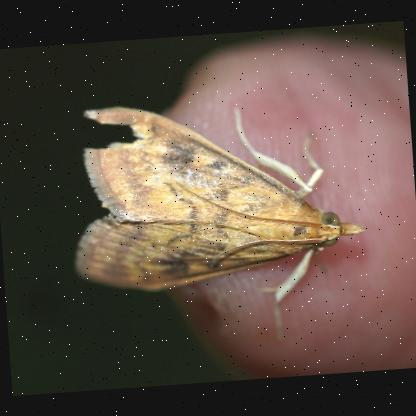Asian Corn Borer Moth: (58, 86, 375, 320)
